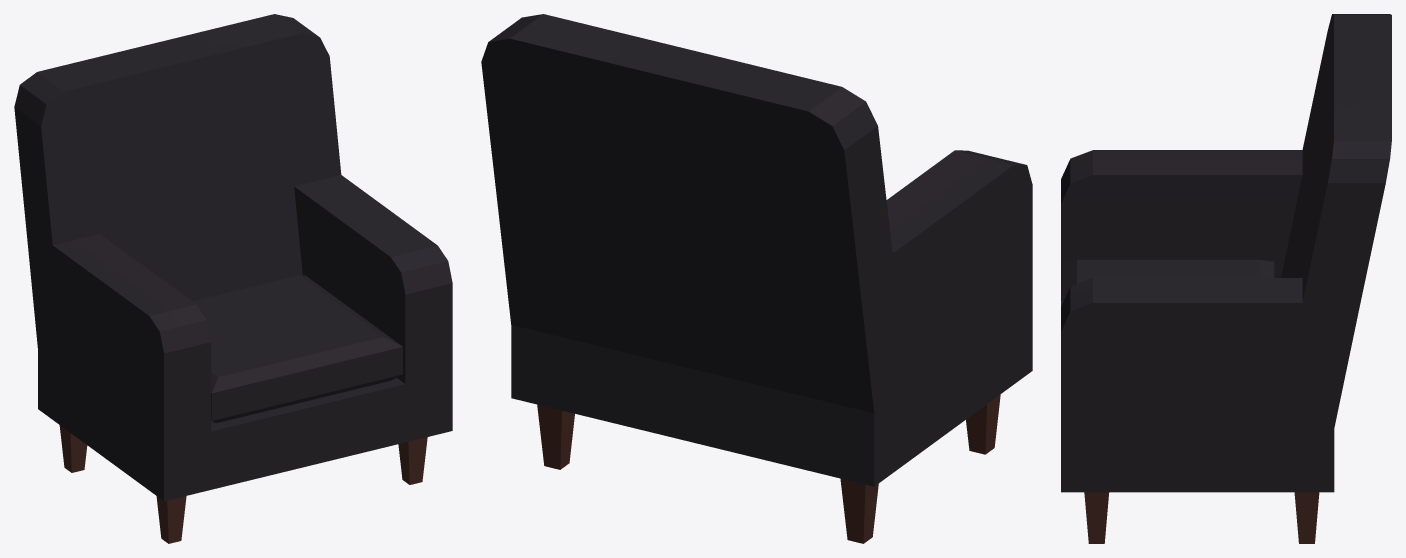
Rendered from armchair-creativetrio.glb.
The picture shows the model from 3 angles, left to right: view 1: azimuth 30°, elevation 25°; view 2: azimuth 150°, elevation 25°; view 3: azimuth 270°, elevation 25°; orthographic projection. The views are drawn at different scales.
Visible parts, largest first — view 1: Armchair; view 2: Armchair; view 3: Armchair.
Part boxes in pixels (x1,y1,x2,y2): Armchair: (14, 14, 452, 543); Armchair: (481, 14, 1032, 543); Armchair: (1061, 14, 1391, 543).
Size of the model in its own units: 0.5882 by 0.7162 by 0.5384.
Materials: 1 (1 with a texture image).
